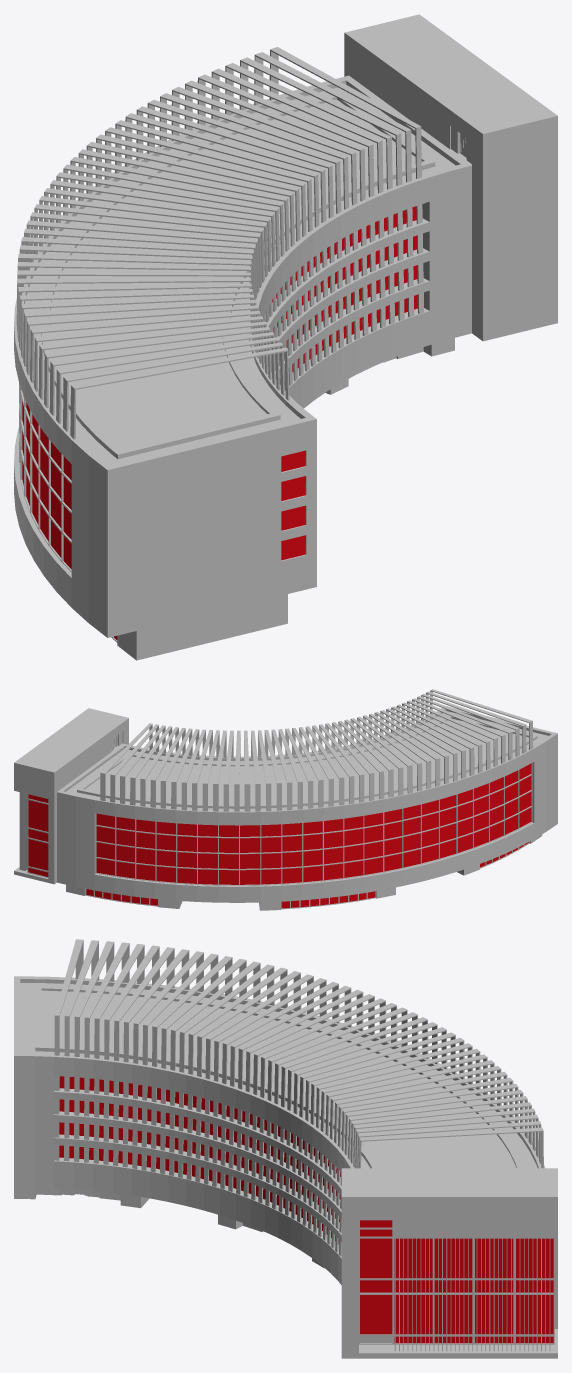
The model's file is SM_House_07.gltf.
The picture shows the model from 3 angles, top to bottom: view 1: azimuth 30°, elevation 25°; view 2: azimuth 150°, elevation 25°; view 3: azimuth 270°, elevation 25°; orthographic projection. The views are drawn at different scales.
Visible parts, largest first — view 1: House_07; view 2: House_07; view 3: House_07.
Part boxes in pixels (x1=…): House_07: x1=14, y1=14, x2=557, y2=660; House_07: x1=14, y1=689, x2=557, y2=910; House_07: x1=14, y1=939, x2=557, y2=1358.
Bounding box in the file's own units: 70 × 25.13 × 64.
